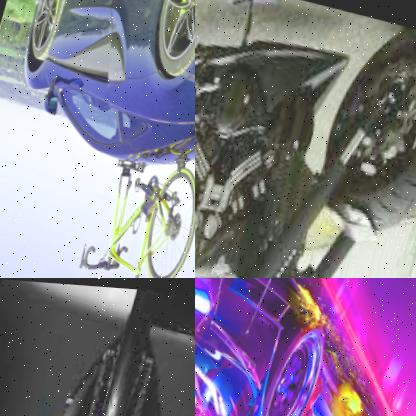bike: (195, 0, 416, 278), (0, 279, 195, 416)
car: (1, 0, 195, 206), (195, 278, 416, 416)
